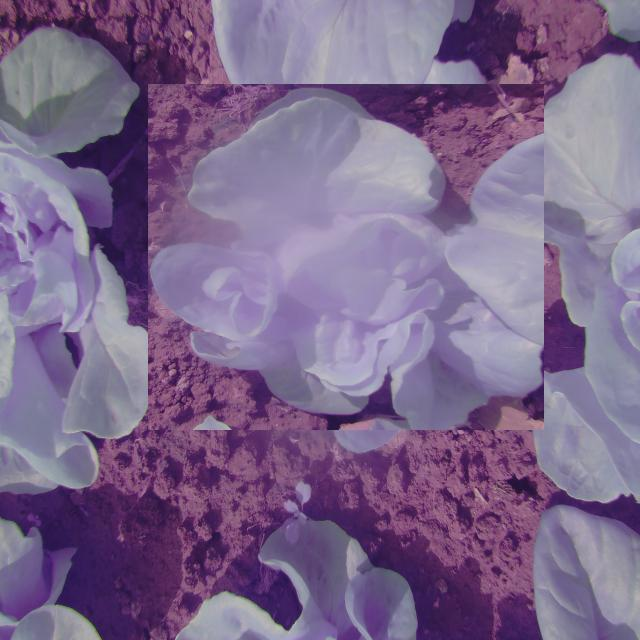vege: (160, 71, 531, 443)
